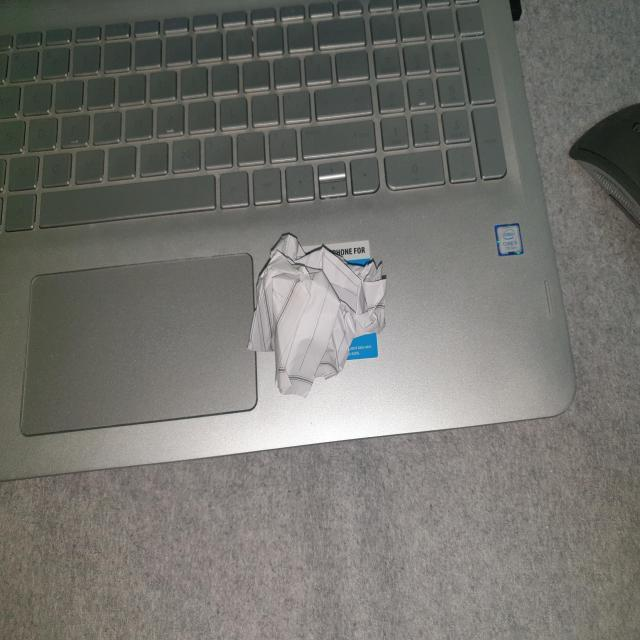cardboard paper: (248, 233, 385, 395)
